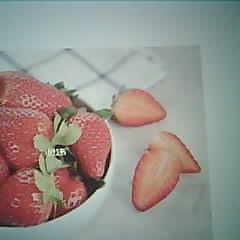straw-ripe: (0, 104, 51, 167), (0, 168, 52, 225), (70, 109, 112, 178)
